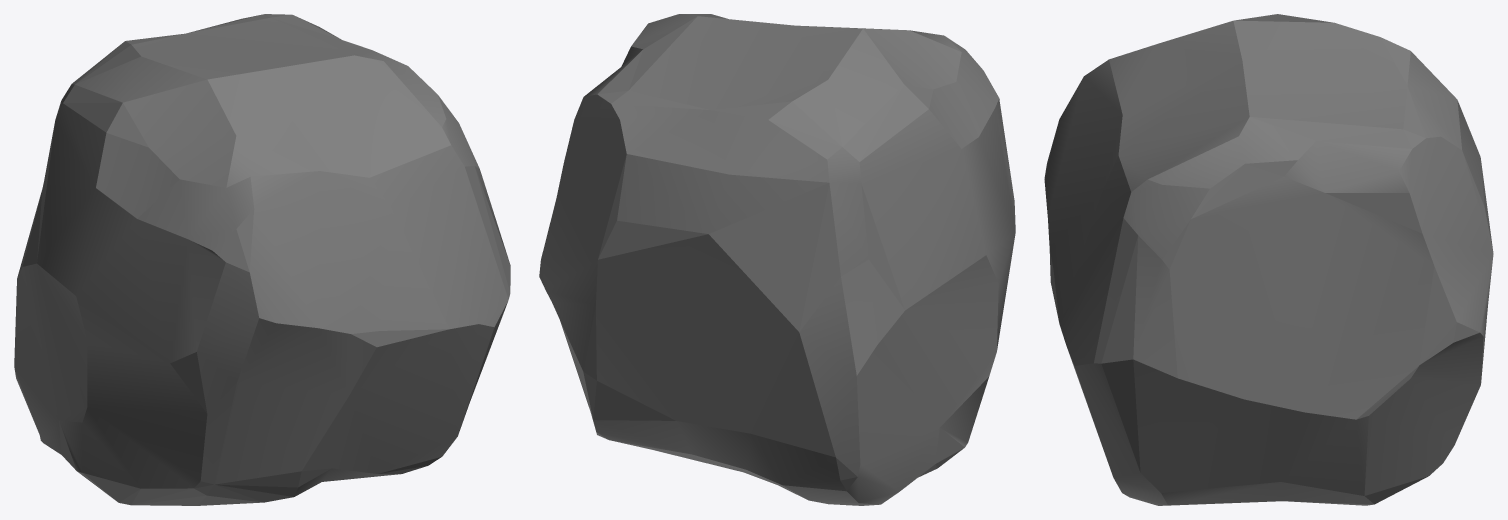
Rendered from rock3.obj.
The picture shows the model from 3 angles, left to right: view 1: azimuth 30°, elevation 25°; view 2: azimuth 150°, elevation 25°; view 3: azimuth 270°, elevation 25°; orthographic projection.
Visible parts, largest first — view 1: Cube.001; view 2: Cube.001; view 3: Cube.001.
Boxes of the visible parts, x1=… form: Cube.001: x1=14, y1=14, x2=510, y2=505; Cube.001: x1=539, y1=14, x2=1015, y2=505; Cube.001: x1=1044, y1=14, x2=1493, y2=505.
Bounding box in the file's own units: 2.03 × 2.17 × 2.05.
Materials: 1 (1 with a texture image).
